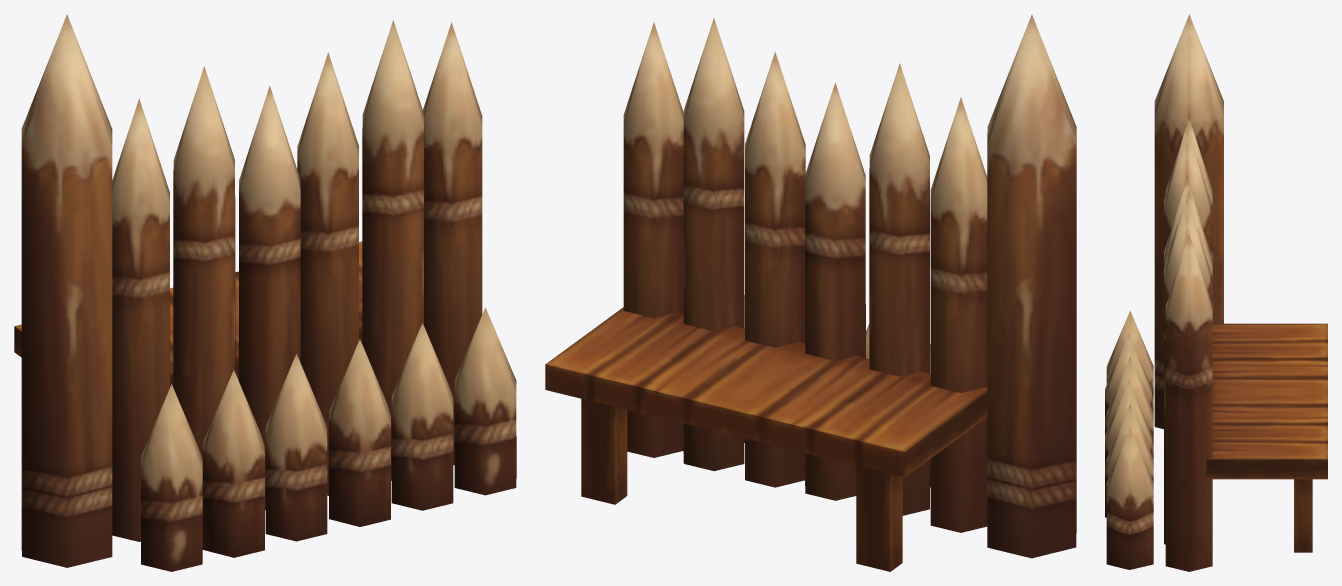
File: Stage_ShaMo_MuZhaLan02.FBX
3 views of the same model, side by side, from view 1: azimuth 30°, elevation 25°; view 2: azimuth 150°, elevation 25°; view 3: azimuth 270°, elevation 25° (orthographic). The views are drawn at different scales.
Parts seen in each view (by area): view 1: Stage_ShaMo_MuZhaLan02; view 2: Stage_ShaMo_MuZhaLan02; view 3: Stage_ShaMo_MuZhaLan02.
Part boxes in pixels (x1,y1,x2,y2): Stage_ShaMo_MuZhaLan02: (14, 14, 516, 571); Stage_ShaMo_MuZhaLan02: (545, 14, 1076, 571); Stage_ShaMo_MuZhaLan02: (1105, 14, 1327, 571).
Bounding box in the file's own units: 315 × 348 × 174.
